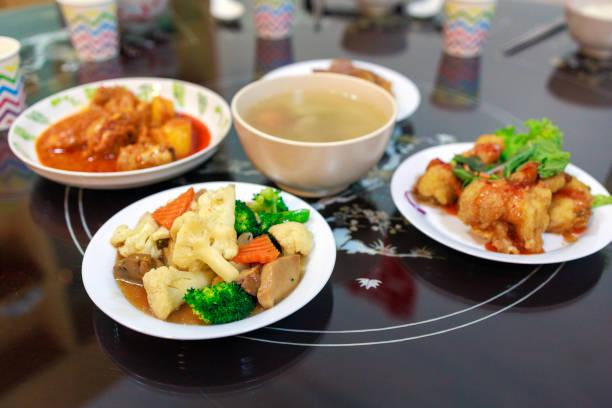Braised Crucian Carp: (79, 181, 335, 341), (389, 142, 612, 265), (7, 77, 231, 190), (231, 70, 398, 198)
